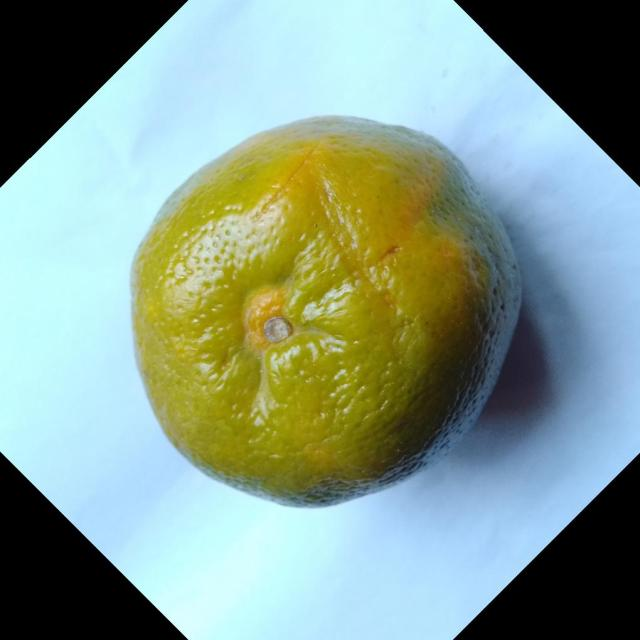fresh orange: (128, 113, 523, 509)
